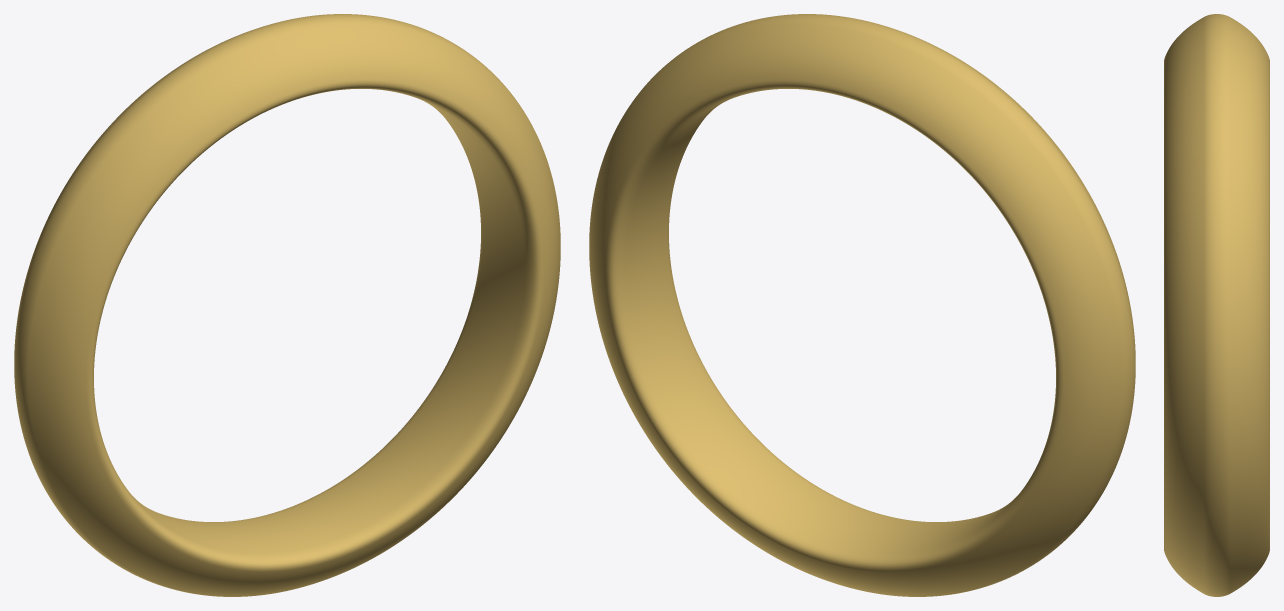
The model's file is free_ring.glb.
3 renders of one model, left to right at view 1: azimuth 30°, elevation 25°; view 2: azimuth 150°, elevation 25°; view 3: azimuth 270°, elevation 25°, orthographic. The views are drawn at different scales.
Parts seen in each view (by area): view 1: Object_6, Object_7, Object_4, Object_2, Object_5, Object_3; view 2: Object_4, Object_5, Object_3, Object_2, Object_7; view 3: Object_5, Object_6, Object_2, Object_7, Object_4.
Part boxes in pixels (bbox=[...]): Object_6: bbox=[30, 23, 560, 596]; Object_7: bbox=[28, 24, 559, 596]; Object_4: bbox=[14, 33, 511, 542]; Object_2: bbox=[14, 14, 548, 596]; Object_5: bbox=[14, 14, 540, 596]; Object_3: bbox=[130, 100, 525, 553]; Object_4: bbox=[604, 31, 1121, 573]; Object_5: bbox=[589, 14, 1135, 596]; Object_3: bbox=[607, 95, 1061, 570]; Object_2: bbox=[597, 14, 1135, 596]; Object_7: bbox=[603, 35, 1135, 565]; Object_5: bbox=[1164, 14, 1268, 596]; Object_6: bbox=[1164, 18, 1204, 593]; Object_2: bbox=[1165, 14, 1269, 596]; Object_7: bbox=[1164, 17, 1268, 593]; Object_4: bbox=[1230, 17, 1269, 553].
Bounding box in the file's own units: 19.28 × 19.28 × 3.5.
Materials: 1 (1 with a texture image).
